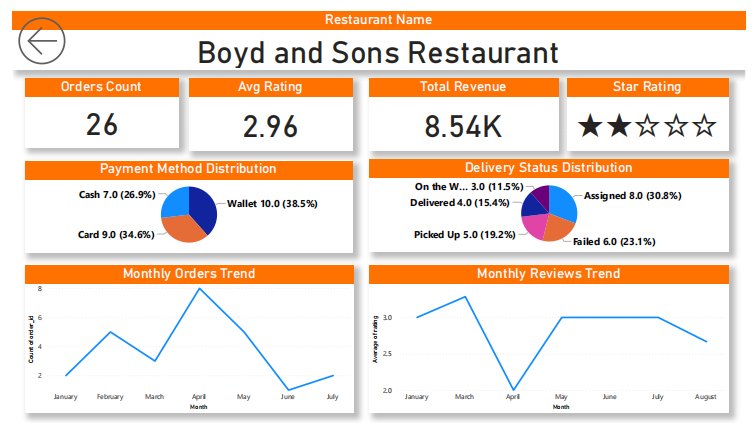

This screenshot's page, from the dashboard's own definition file:
{"tool":"powerbi","page":{"name":"Restaurant","canvas":[1280,720],"ordinal":2},"visuals":[{"type":"card","title":"Restaurant Name","fields":{"Values":["Min(Restaurants.restaurant_name)"]},"box":[0,0,1280.4,101.8],"z":0},{"type":"actionButton","box":[0,0,183.9,101.8],"z":1000},{"type":"card","title":"Orders Count","fields":{"Values":["CountNonNull(Orders.order_id)"]},"box":[22.4,116.3,267.3,120.4],"z":2000},{"type":"card","title":"Avg Rating","fields":{"Values":["Avg(Reviews.rating)"]},"box":[308.2,116.3,285.7,126.5],"z":3000},{"type":"card","title":"Total Revenue ","fields":{"Values":["Sum(Orders.total_price)"]},"box":[624.5,116.3,328.6,126.5],"z":4000},{"type":"pieChart","title":"Payment Method Distribution","fields":{"Category":["Orders.payment_method"],"Y":["CountNonNull(Orders.payment_method)"]},"box":[22.4,261.2,571.4,161.2],"z":5000},{"type":"lineChart","title":"Monthly Orders Trend ","fields":{"Category":["Orders.order_date.Variation.Date Hierarchy.Month"],"Y":["CountNonNull(Orders.order_id)"]},"box":[22.4,442.9,573.5,259.2],"z":6000},{"type":"lineChart","title":"Monthly Reviews Trend ","fields":{"Category":["Reviews.review_date.Variation.Date Hierarchy.Month"],"Y":["Avg(Reviews.rating)"]},"box":[624.5,442.9,626.5,259.2],"z":7000},{"type":"columnChart","fields":{"Category":["Orders.order_date.Variation.Date Hierarchy.Day"]},"box":[624.5,259.2,655.1,161.2],"z":7001},{"type":"card","title":"Star Rating","fields":{"Values":["Customers.Average of rating star rating"]},"box":[969.4,116.3,281.6,126.5],"z":7002},{"type":"pieChart","title":"Delivery Status Distribution","fields":{"Category":["DeliveryAssignments.delivery_status"],"Y":["CountNonNull(DeliveryAssignments.delivery_status)"]},"box":[624.5,259.2,626.5,161.2],"z":7003}]}

Visuals, with their boxes in screenshot pixels (x1, y1, x2, y2), scaled from the page's 1280x720 canvas onto the 752x428 screenshot:
"Restaurant Name" card: x1=0 y1=0 x2=751 y2=61
actionButton: x1=0 y1=0 x2=108 y2=61
"Orders Count" card: x1=13 y1=69 x2=170 y2=141
"Avg Rating" card: x1=181 y1=69 x2=349 y2=144
"Total Revenue " card: x1=367 y1=69 x2=560 y2=144
"Payment Method Distribution" pieChart: x1=13 y1=155 x2=349 y2=251
"Monthly Orders Trend " lineChart: x1=13 y1=263 x2=350 y2=417
"Monthly Reviews Trend " lineChart: x1=367 y1=263 x2=735 y2=417
columnChart - Orders.order_date.Variation.Date Hierarchy.Day: x1=367 y1=154 x2=751 y2=250
"Star Rating" card: x1=570 y1=69 x2=735 y2=144
"Delivery Status Distribution" pieChart: x1=367 y1=154 x2=735 y2=250
